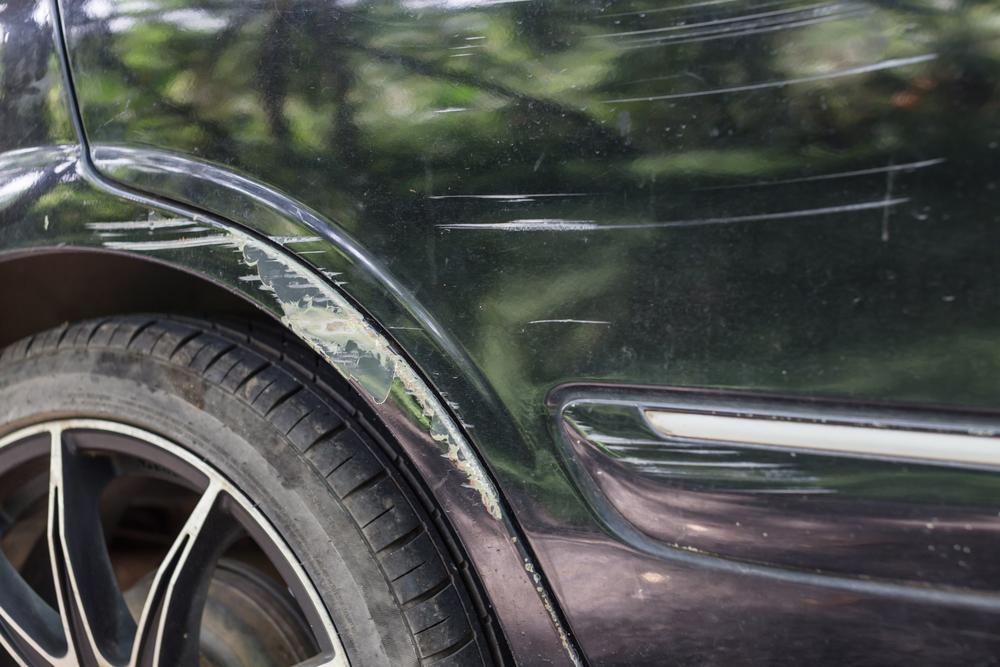scratch: (80, 204, 495, 514), (406, 152, 949, 243), (567, 0, 951, 116), (591, 425, 880, 504)
